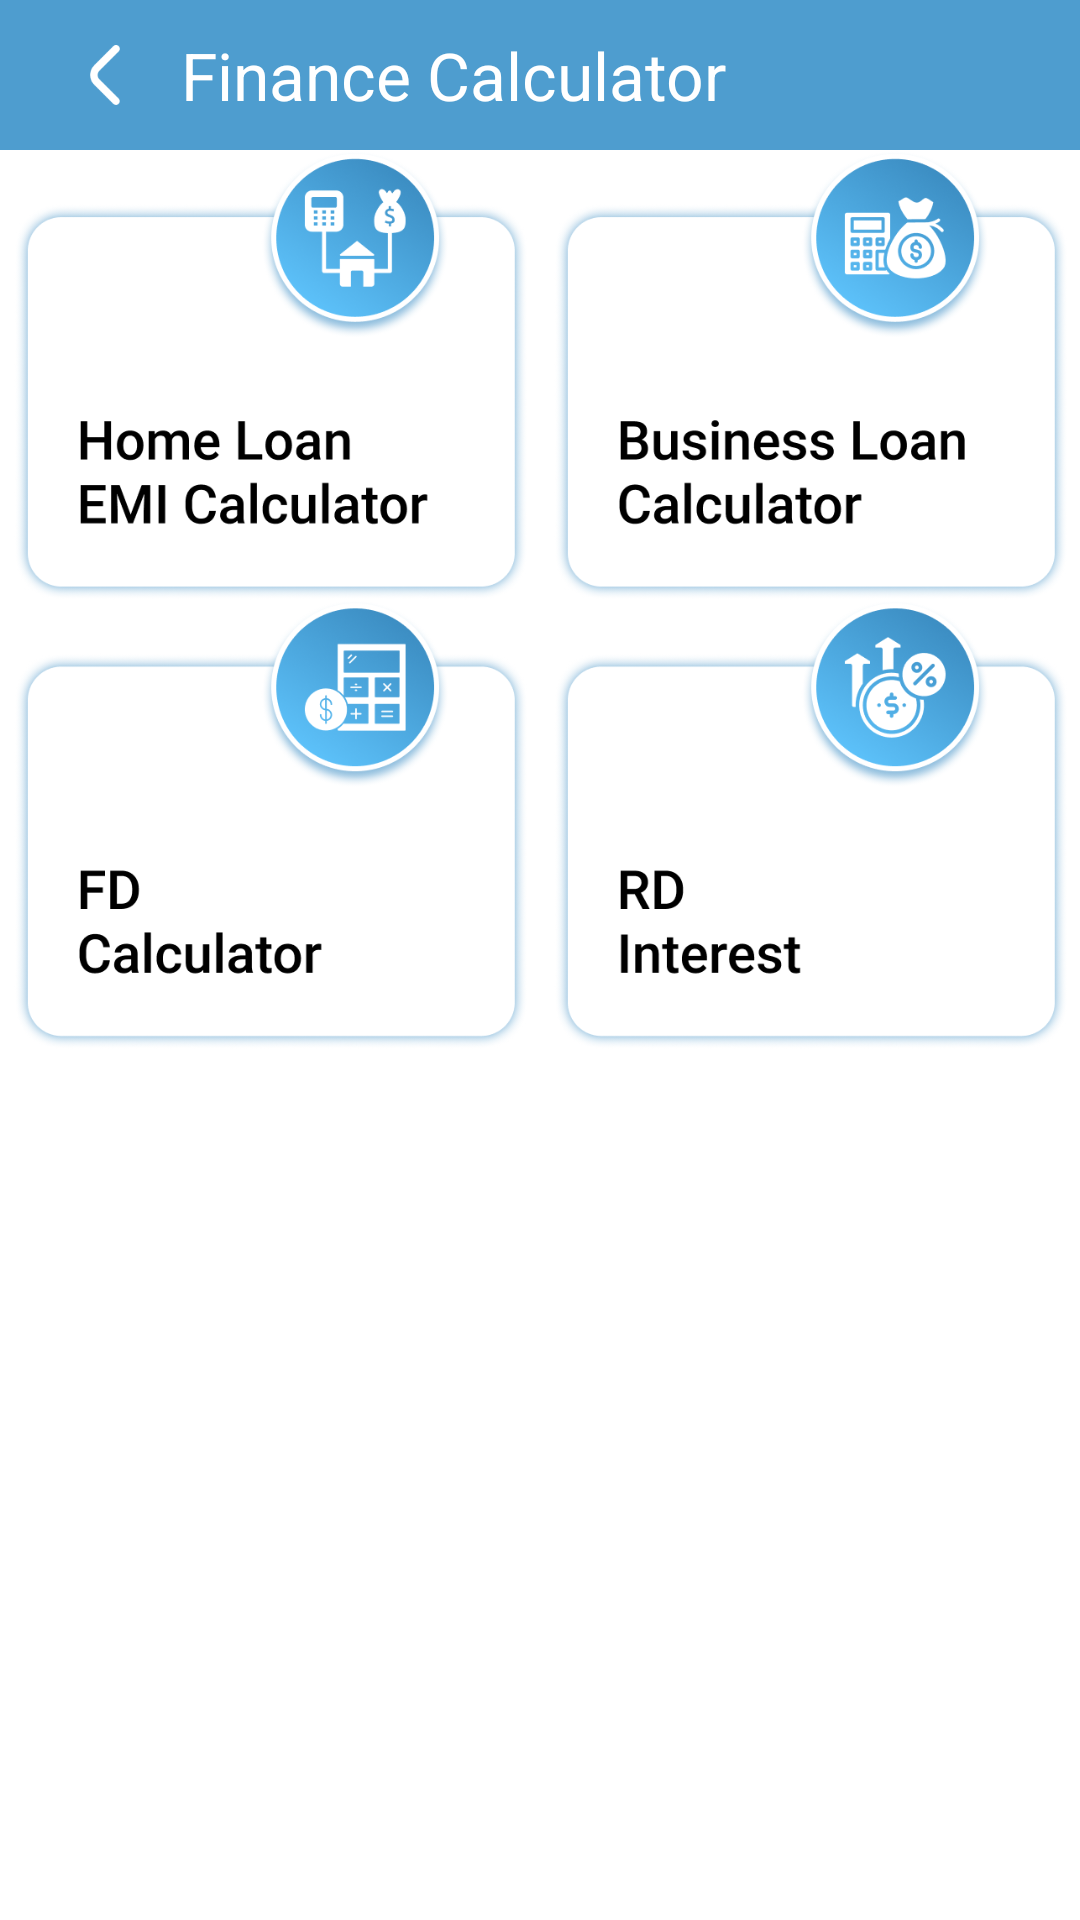

Screen size 1080 × 1920. Icon name, then its center in pixels as (x,y):
back: (105,75)
